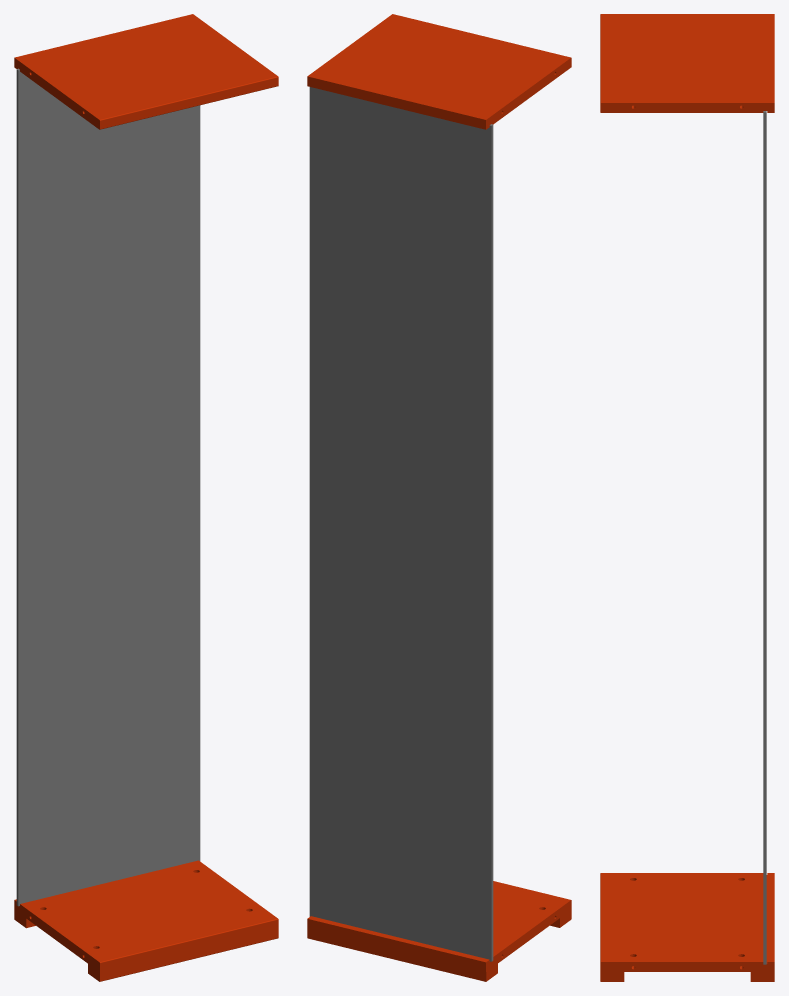
Rendered from MOD_H219_P40_L48.fbx.
3 views of the same model, side by side, from view 1: azimuth 30°, elevation 25°; view 2: azimuth 150°, elevation 25°; view 3: azimuth 270°, elevation 25° (orthographic).
Visible parts, largest first — view 1: Body2, Body6, Body5, Body3; view 2: Body2, Body6, Body5, Body1; view 3: Body6, Body5, Body2.
Part boxes in pixels (x1=…): Body2: x1=16, y1=68, x2=200, y2=906; Body6: x1=14, y1=14, x2=278, y2=129; Body5: x1=14, y1=860, x2=277, y2=971; Body3: x1=99, y1=918, x2=278, y2=981; Body2: x1=309, y1=87, x2=493, y2=961; Body6: x1=307, y1=14, x2=571, y2=129; Body5: x1=307, y1=881, x2=571, y2=971; Body1: x1=307, y1=928, x2=497, y2=981; Body6: x1=600, y1=14, x2=774, y2=112; Body5: x1=601, y1=873, x2=774, y2=971; Body2: x1=763, y1=111, x2=766, y2=964.
Size of the model in its own units: 484 by 2189 by 394.
